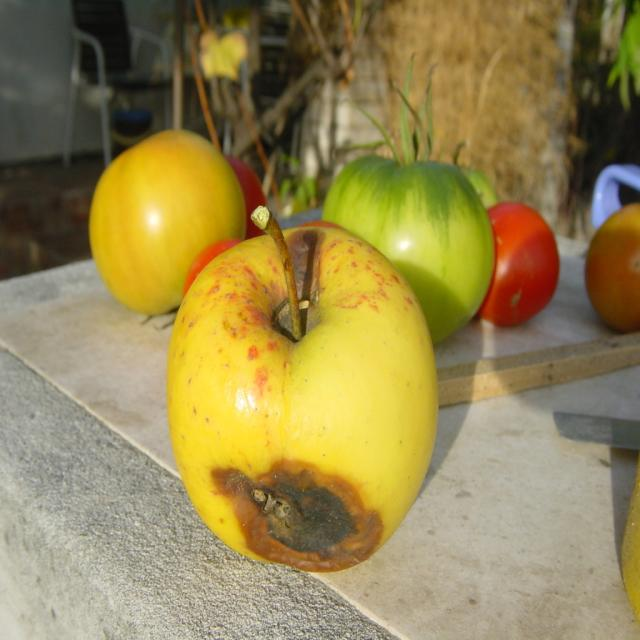Healty Apple: (157, 207, 445, 575)
